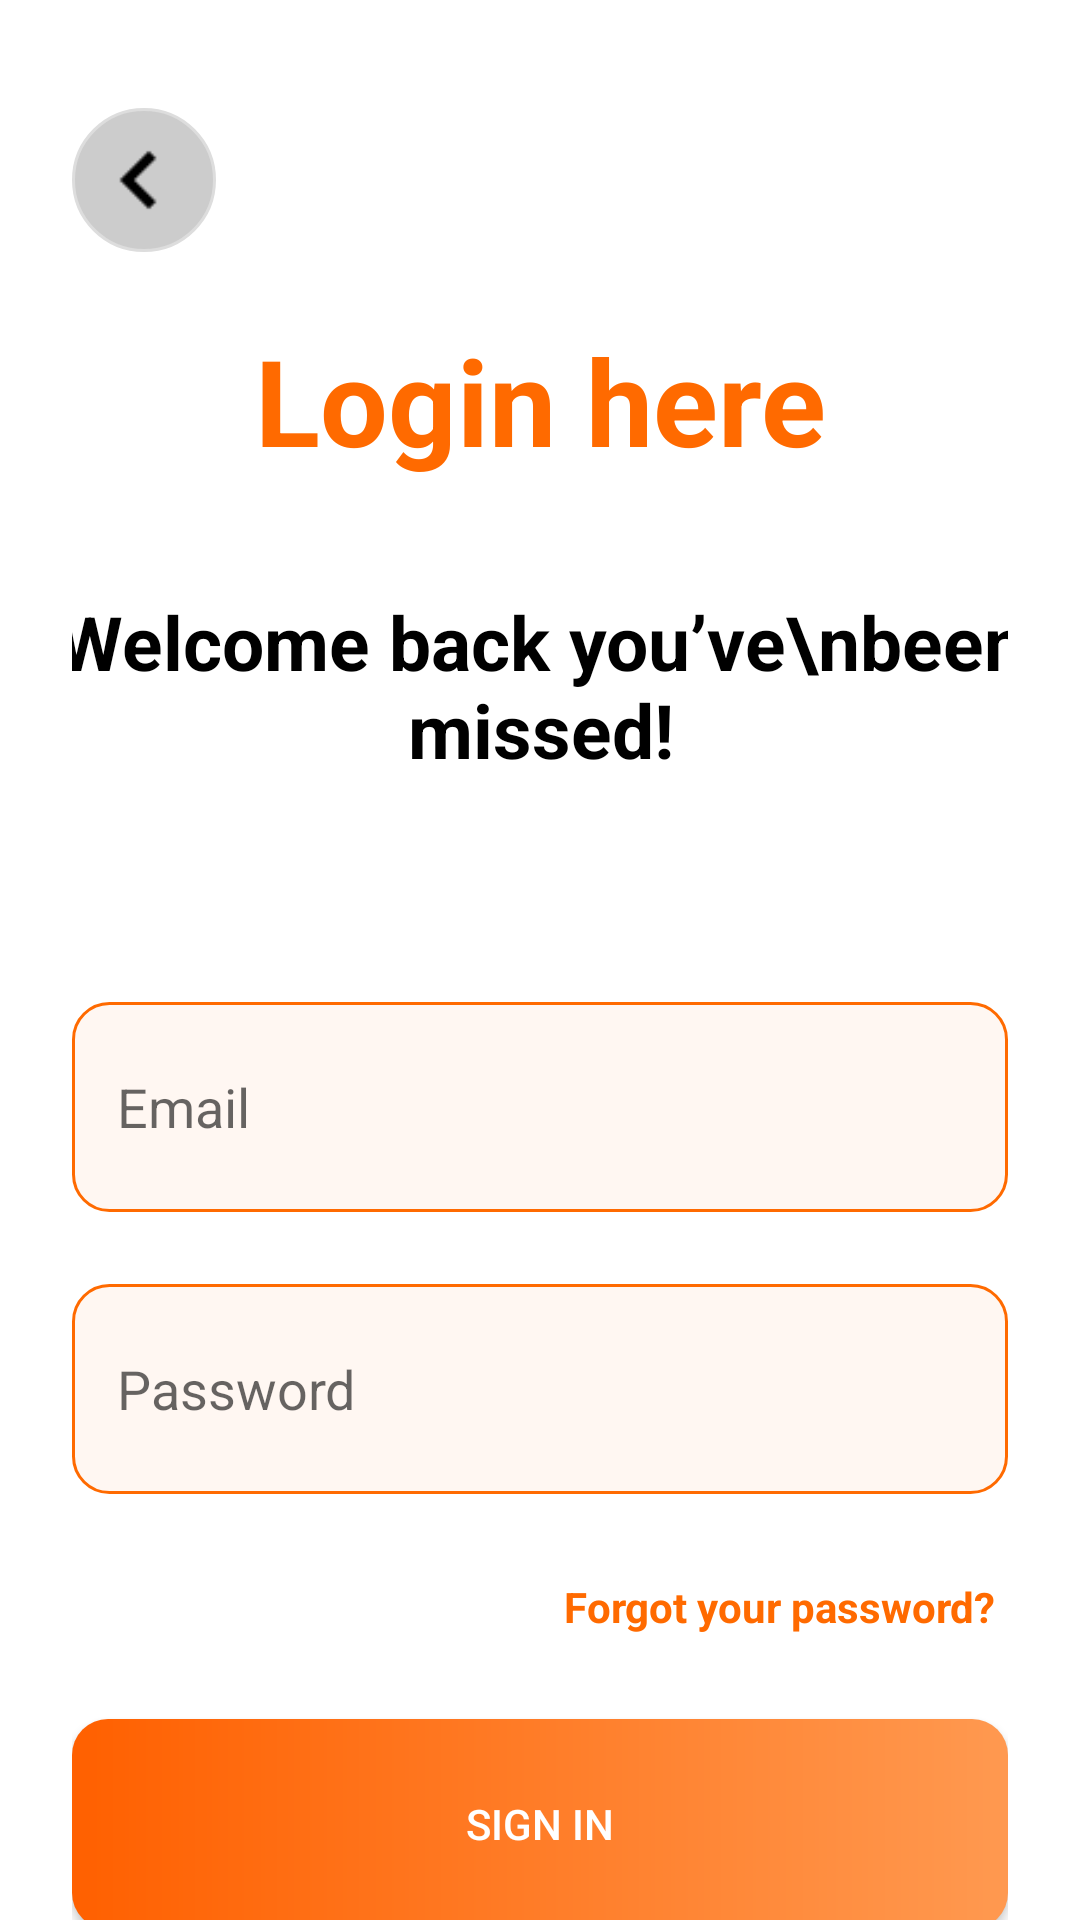

Icon bounding boxes for this 1080x1920 phone screenshot, format (x1,y1,x2,y2):
whiteback: (72,108,216,252)
